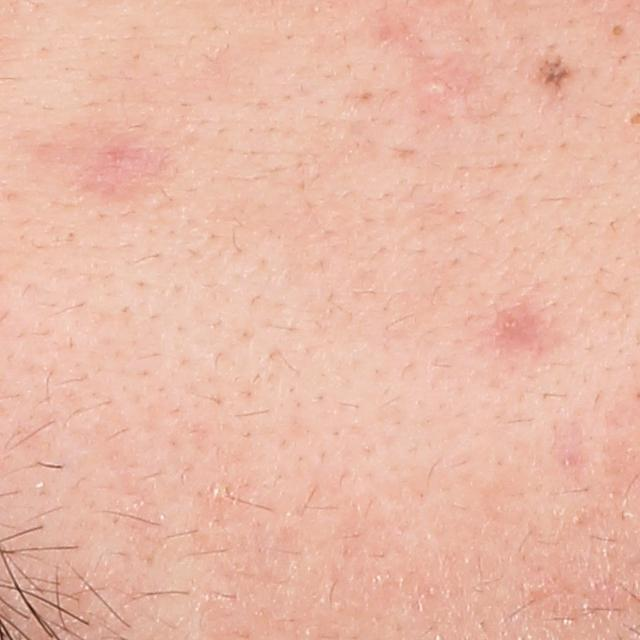comedo: (606, 23, 629, 40)
